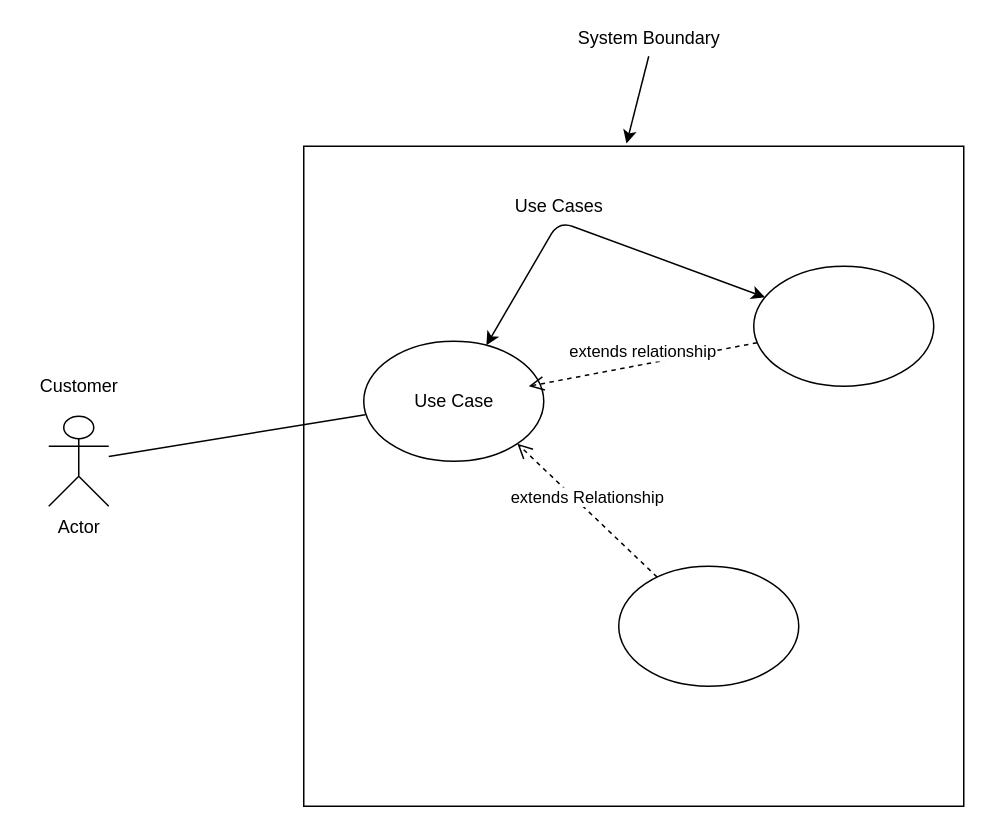
The diagram is 990 pixels wide and 833 high, and some of its shapes have lost their labels. The box of each missing label's shape, as (x1, y1, x2, y2) in pixels:
NormalOrder: (617, 565, 799, 686)
SpecialOrder: (752, 265, 934, 386)
